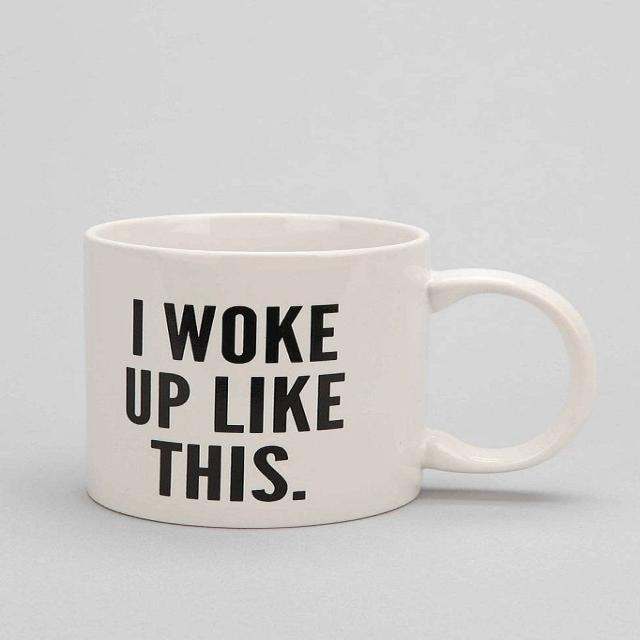glass cup: (83, 211, 601, 532)
